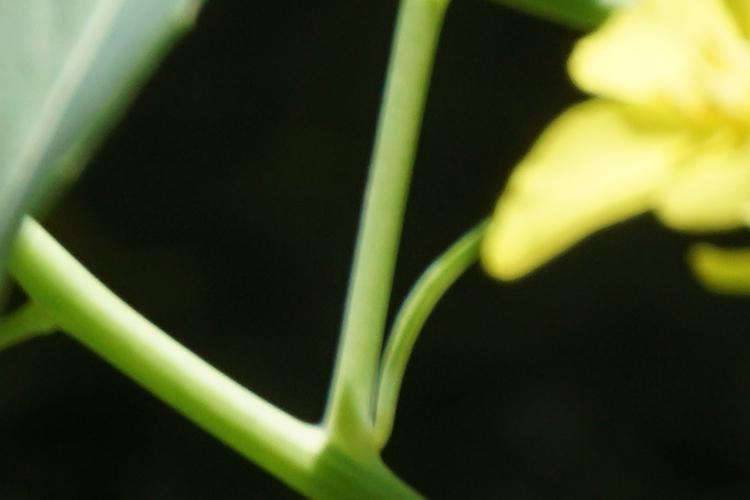yellow: (515, 18, 750, 291)
